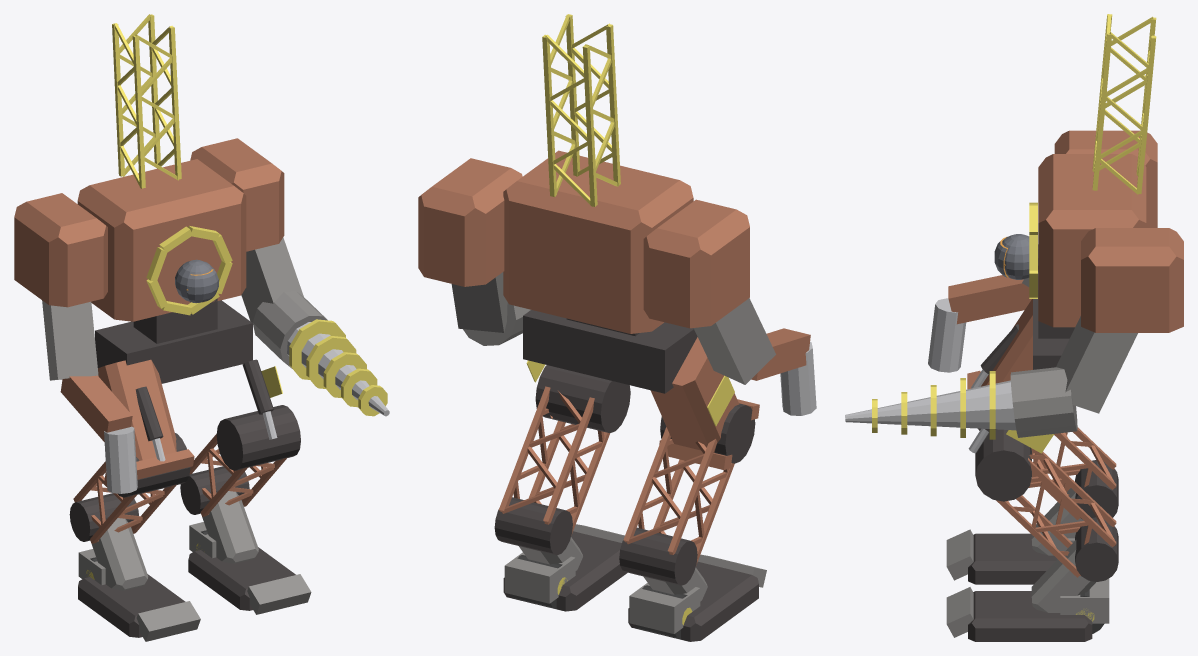
Rendered from driller.glb.
3 renders of one model, left to right at view 1: azimuth 30°, elevation 25°; view 2: azimuth 150°, elevation 25°; view 3: azimuth 270°, elevation 25°, orthographic. The views are drawn at different scales.
Visible parts, largest first — view 1: torso, shoulder-1, hips, shoulder1, thigh-1, knee1, upper-1, foot1_sole, foot-1_sole, upper1, core_arm, auger_motor (+25 smaller); view 2: torso, shoulder-1, shoulder1, hips, thigh-1, knee1, upper-1, foot-1_sole, foot1_sole, hock-1, hock1, upper1 (+20 smaller); view 3: torso, shoulder1, foot1_sole, upper1, auger, auger_motor, foot-1_sole, knee1, core_arm, shoulder-1, core, meta1 (+18 smaller).
Part boxes in pixels (bbox=[...]): torso: bbox=[77, 159, 246, 321]; shoulder-1: bbox=[14, 193, 107, 307]; hips: bbox=[95, 300, 252, 383]; shoulder1: bbox=[190, 138, 284, 251]; thigh-1: bbox=[98, 359, 194, 484]; knee1: bbox=[216, 405, 300, 470]; upper-1: bbox=[42, 300, 98, 380]; foot1_sole: bbox=[188, 547, 295, 610]; foot-1_sole: bbox=[78, 574, 185, 637]; upper1: bbox=[241, 237, 303, 322]; core_arm: bbox=[60, 375, 132, 441]; auger_motor: bbox=[252, 291, 327, 368]; torso: bbox=[503, 150, 693, 333]; shoulder-1: bbox=[643, 199, 749, 328]; shoulder1: bbox=[418, 158, 522, 286]; hips: bbox=[523, 310, 697, 393]; thigh-1: bbox=[650, 337, 759, 469]; knee1: bbox=[535, 365, 630, 433]; upper-1: bbox=[693, 298, 775, 384]; foot-1_sole: bbox=[628, 561, 758, 641]; foot1_sole: bbox=[503, 531, 627, 611]; hock-1: bbox=[619, 527, 697, 585]; hock1: bbox=[494, 497, 572, 555]; upper1: bbox=[451, 272, 507, 332]; torso: bbox=[1038, 154, 1146, 327]; shoulder1: bbox=[1081, 228, 1183, 332]; foot1_sole: bbox=[968, 591, 1092, 641]; upper1: bbox=[1056, 316, 1137, 413]; auger: bbox=[845, 380, 1016, 430]; auger_motor: bbox=[1010, 367, 1077, 437]; foot-1_sole: bbox=[968, 533, 1057, 584]; knee1: bbox=[975, 429, 1031, 501]; core_arm: bbox=[948, 275, 1031, 324]; shoulder-1: bbox=[1054, 130, 1157, 227]; core: bbox=[928, 298, 966, 372]; meta1: bbox=[1031, 540, 1095, 612].
Size of the model in its own units: 17.36 by 33.56 by 17.96.
